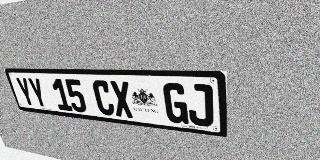1: (50, 78, 73, 111)
5: (64, 79, 88, 113)
C: (91, 80, 116, 116)
G: (162, 83, 189, 124)
J: (187, 84, 214, 127)
X: (109, 81, 134, 118)
Y: (27, 78, 49, 109), (14, 77, 36, 107)
